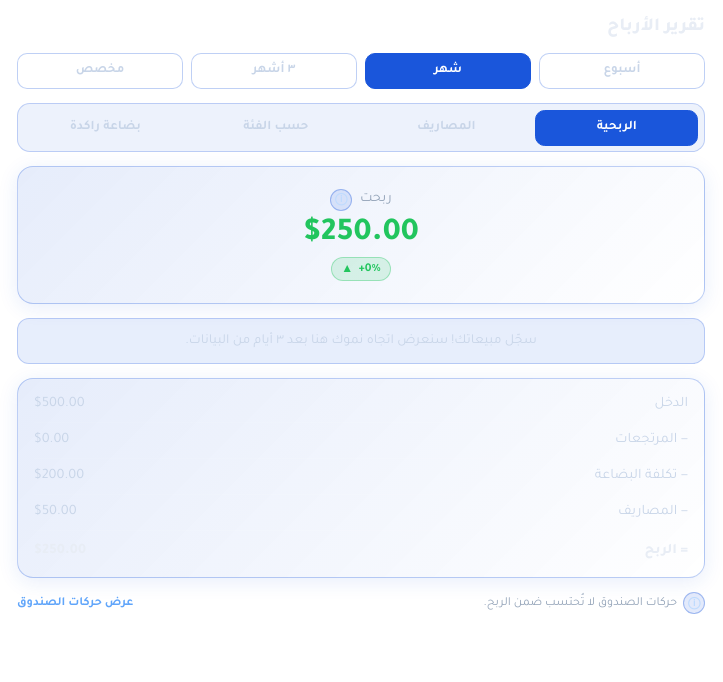
ReportsPage › shows a cash-movement exclusion note with tooltip and a link to shift history
What coordinates should you click on to do the following:
click the button with test id "cash-movement-info"
I would click on:
 (694, 603)
Its box is [683,592,705,614].
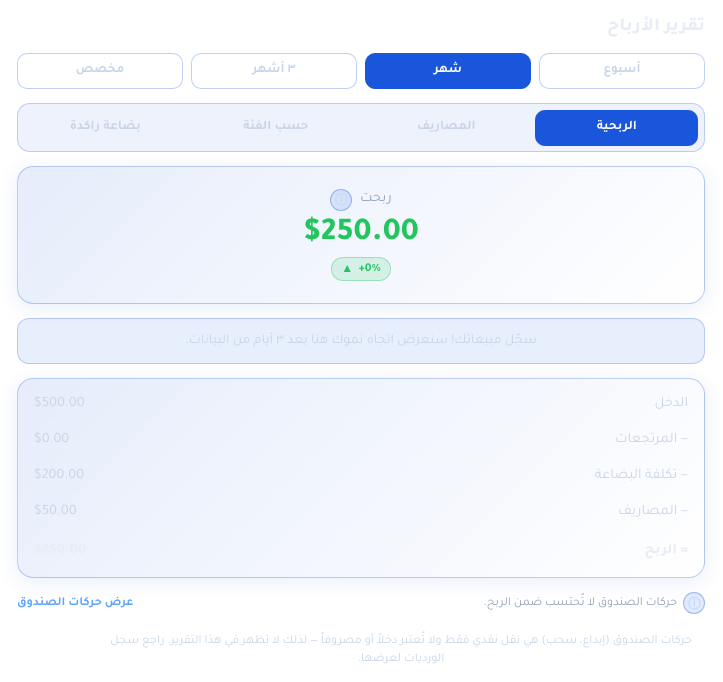
Now the text with test id "cash-movement-info-text" shows "حركات الصندوق", box [110,635,692,665]
